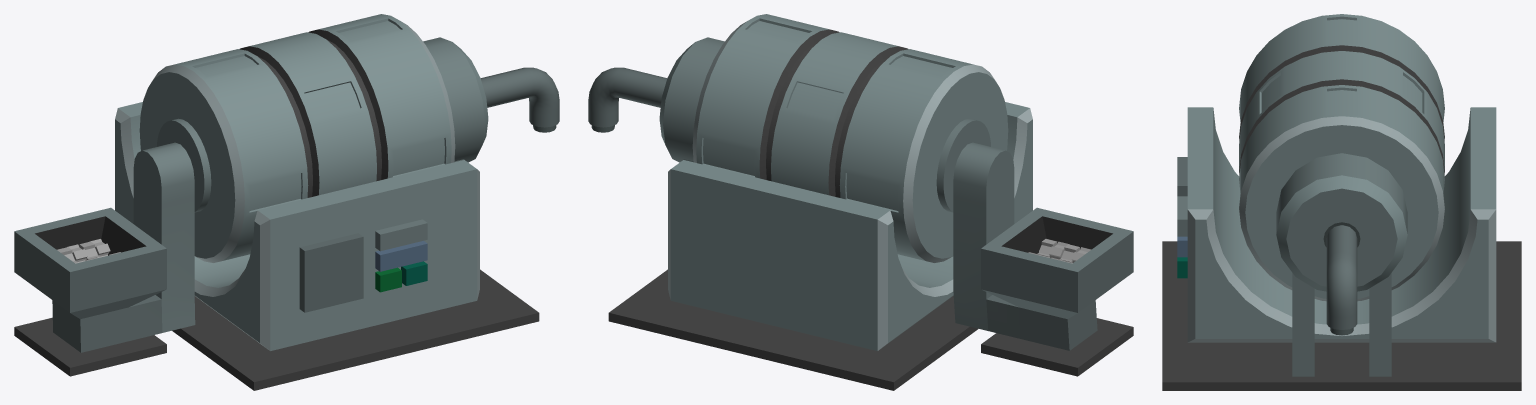
The model's file is mech_1.fbx.
3 views of the same model, side by side, from view 1: azimuth 30°, elevation 25°; view 2: azimuth 150°, elevation 25°; view 3: azimuth 270°, elevation 25° (orthographic).
Visible parts, largest first — view 1: mech_1; view 2: mech_1; view 3: mech_1.
Boxes of the visible parts, x1,y1,x2,y2 form: mech_1: [14, 14, 559, 390]; mech_1: [588, 14, 1133, 390]; mech_1: [1162, 14, 1521, 390].
Bounding box in the file's own units: 390 × 179 × 233.
